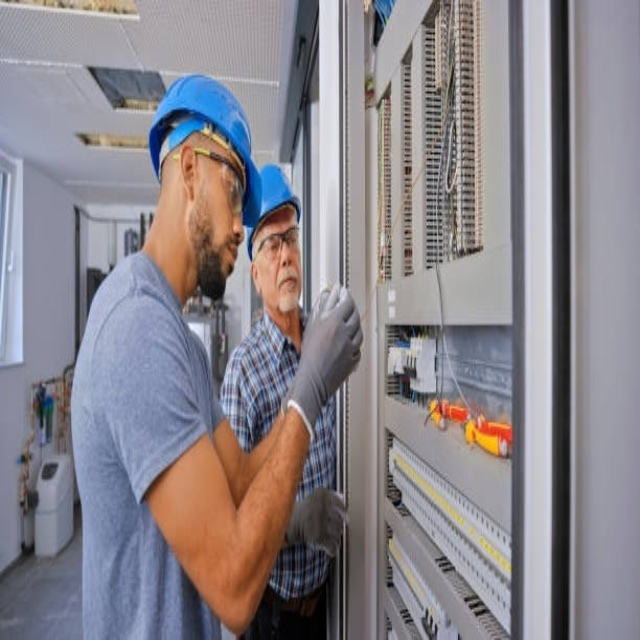Gafas: (168, 144, 246, 212), (253, 223, 301, 266)
Guantes: (285, 279, 363, 443), (286, 486, 349, 558)
Sin_mascara: (209, 232, 244, 289), (273, 266, 298, 309)
